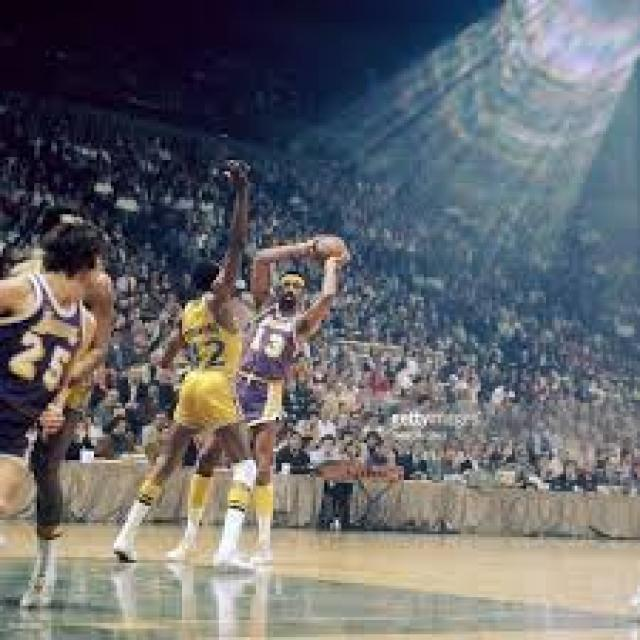rim: (313, 237, 342, 266)
